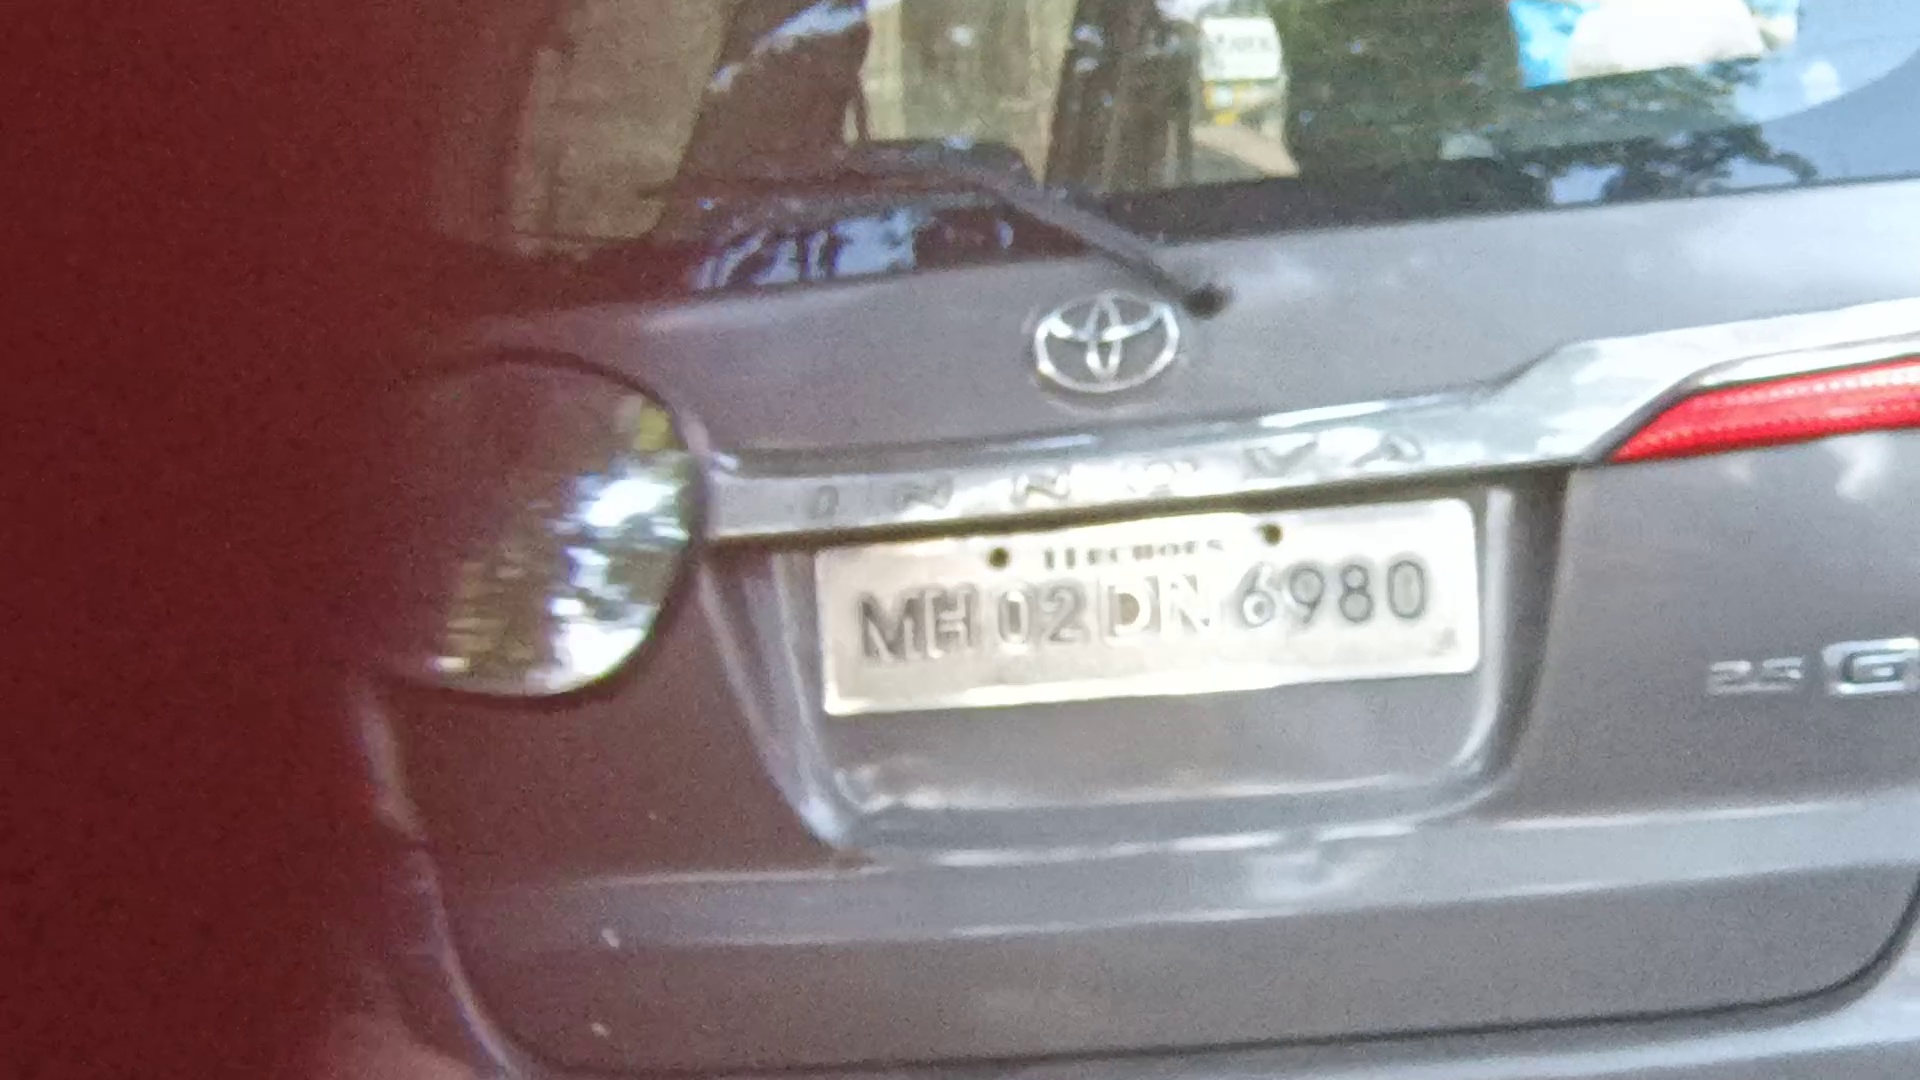MH02DN6980: (811, 491, 1479, 713)
